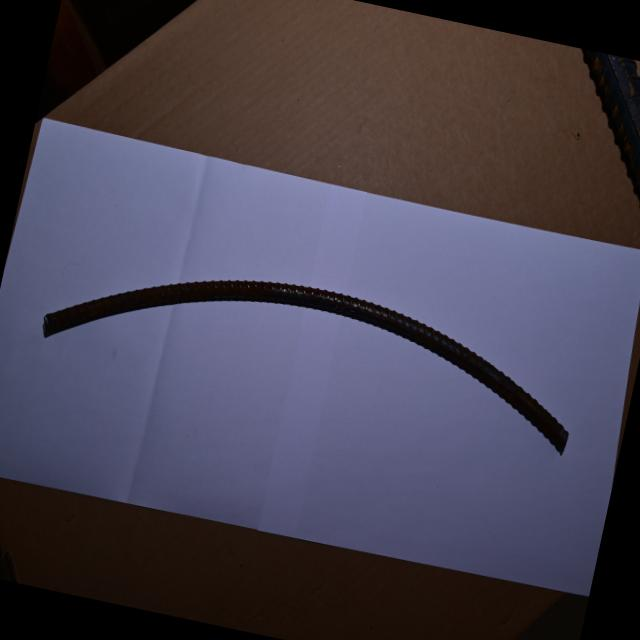ribbed bar: (32, 223, 596, 468), (540, 50, 640, 248)
